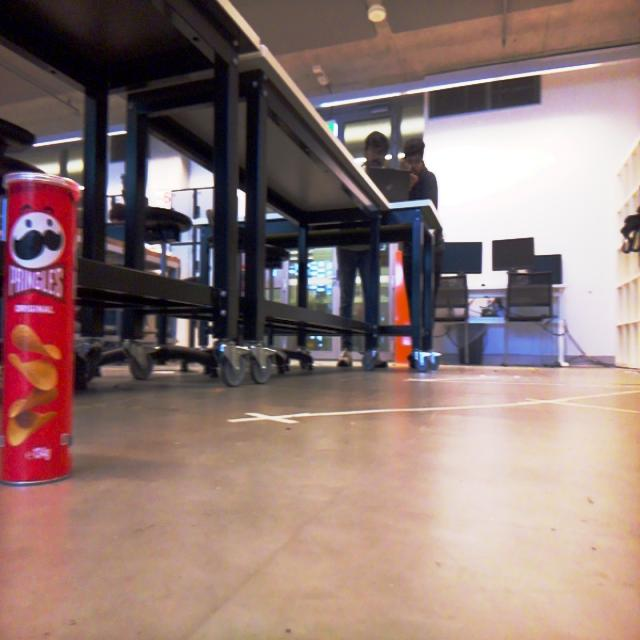redpringles: (0, 159, 94, 512)
